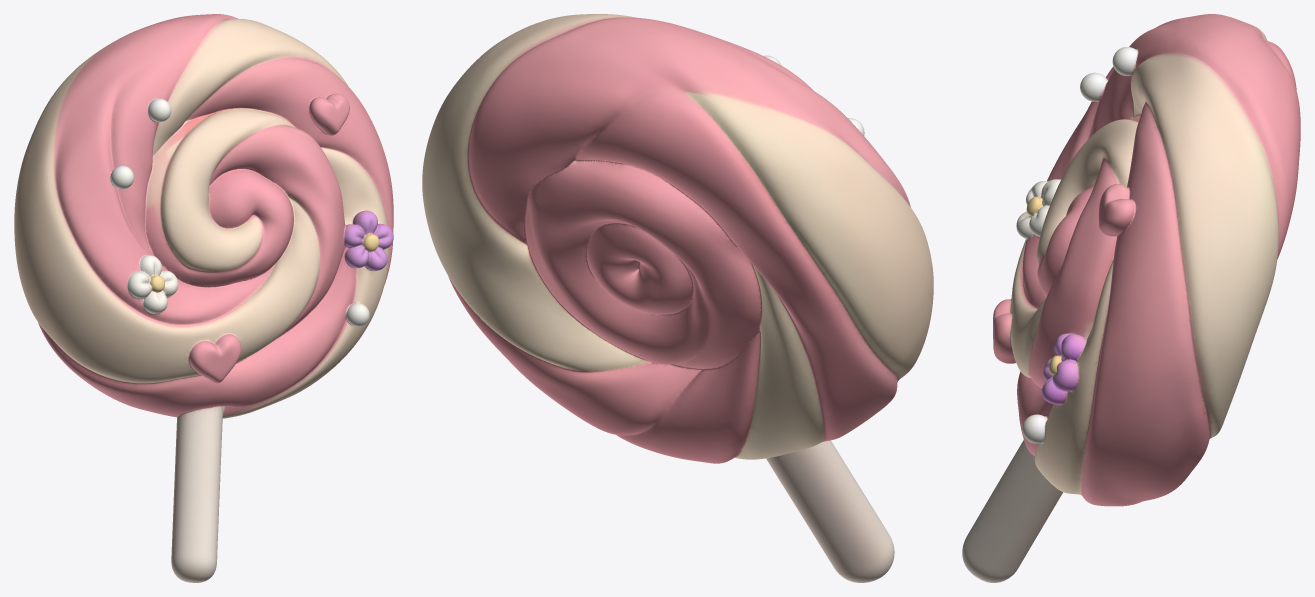
File: Meshy_AI_Pastel_Swirl_Lollipop_0601103206_texture.fbx
3 views of the same model, side by side, from view 1: azimuth 30°, elevation 25°; view 2: azimuth 150°, elevation 25°; view 3: azimuth 270°, elevation 25° (orthographic). The views are drawn at different scales.
Parts seen in each view (by area): view 1: Mesh_0; view 2: Mesh_0; view 3: Mesh_0.
Part boxes in pixels (left/top/right/bottom): Mesh_0: left=14, top=14, right=393, bottom=582; Mesh_0: left=422, top=14, right=933, bottom=582; Mesh_0: left=962, top=14, right=1300, bottom=582.
Bounding box in the file's own units: 152 × 190 × 99.29.
Materials: 1 (1 with a texture image).
